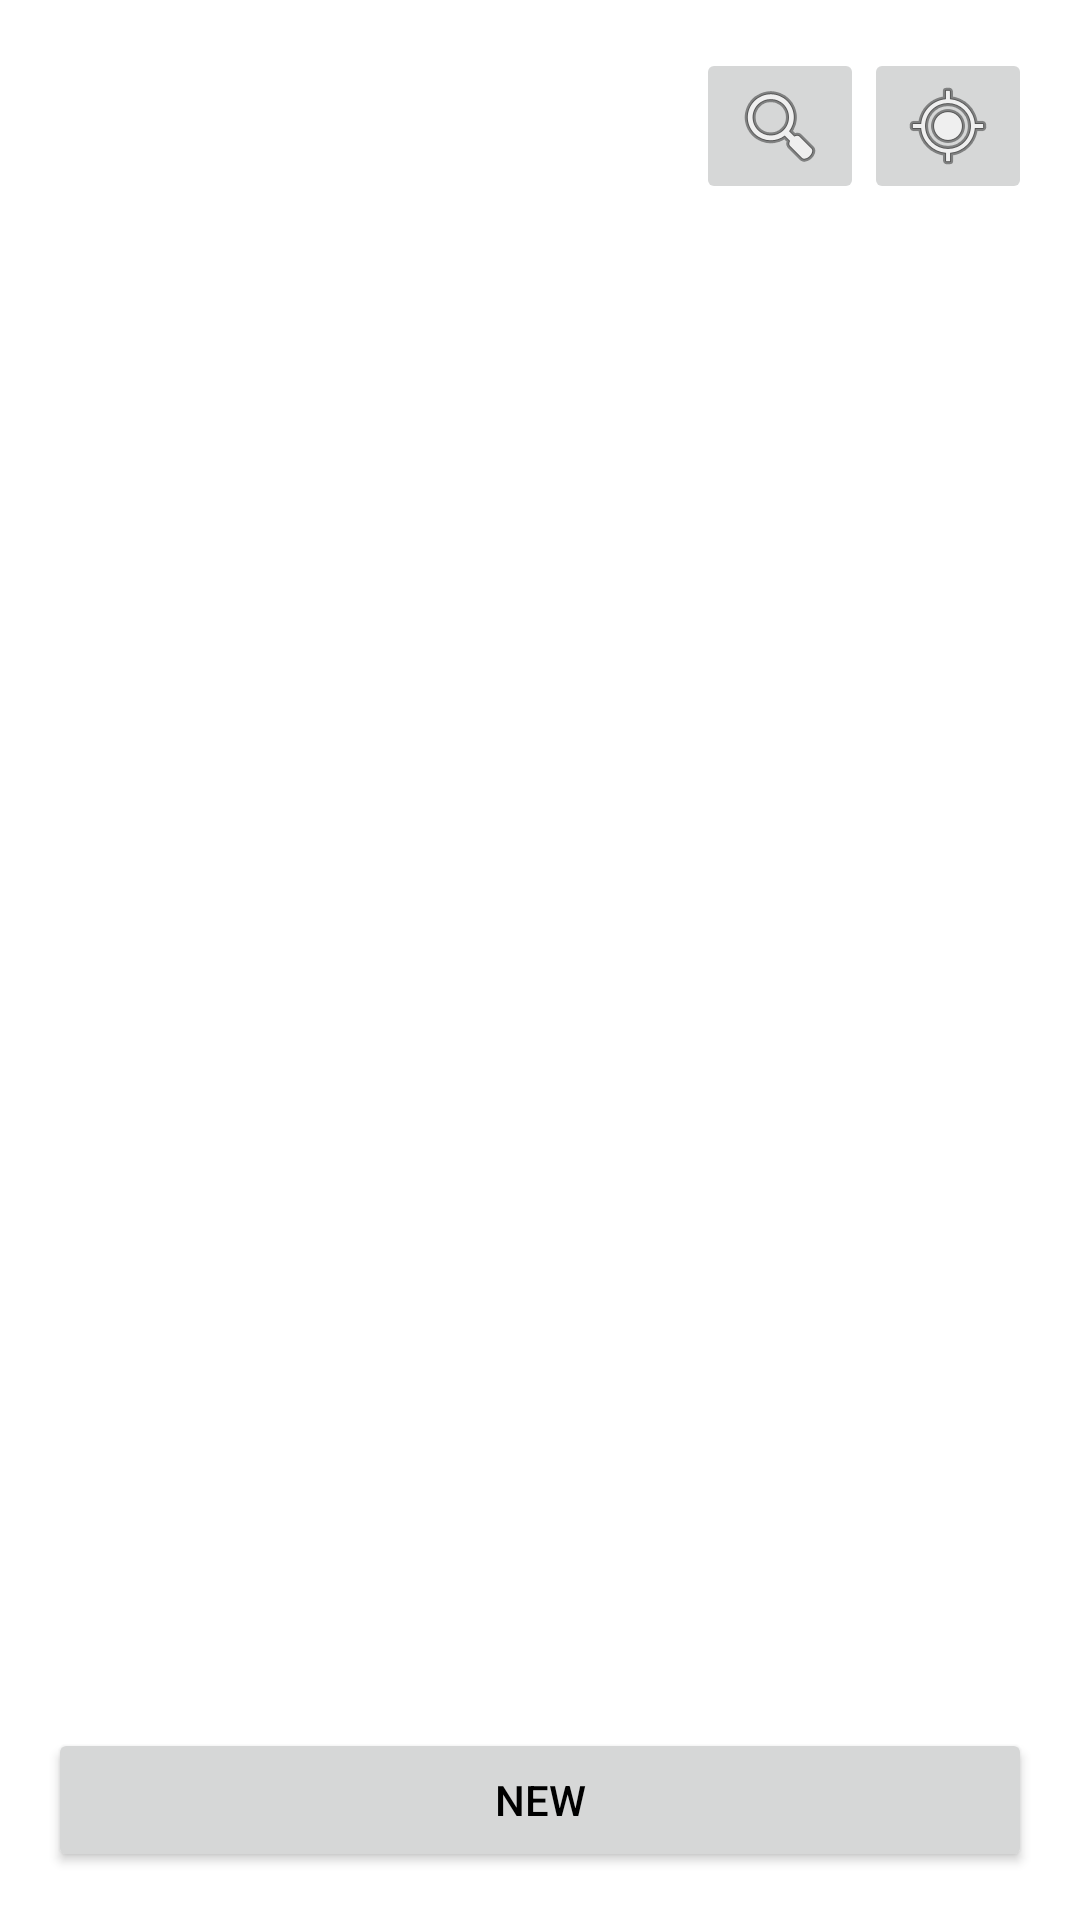

Screen size 1080x1920. Icon name, then its center in pixels as [x,y]:
mylocation: [948,126]
search: [780,126]
